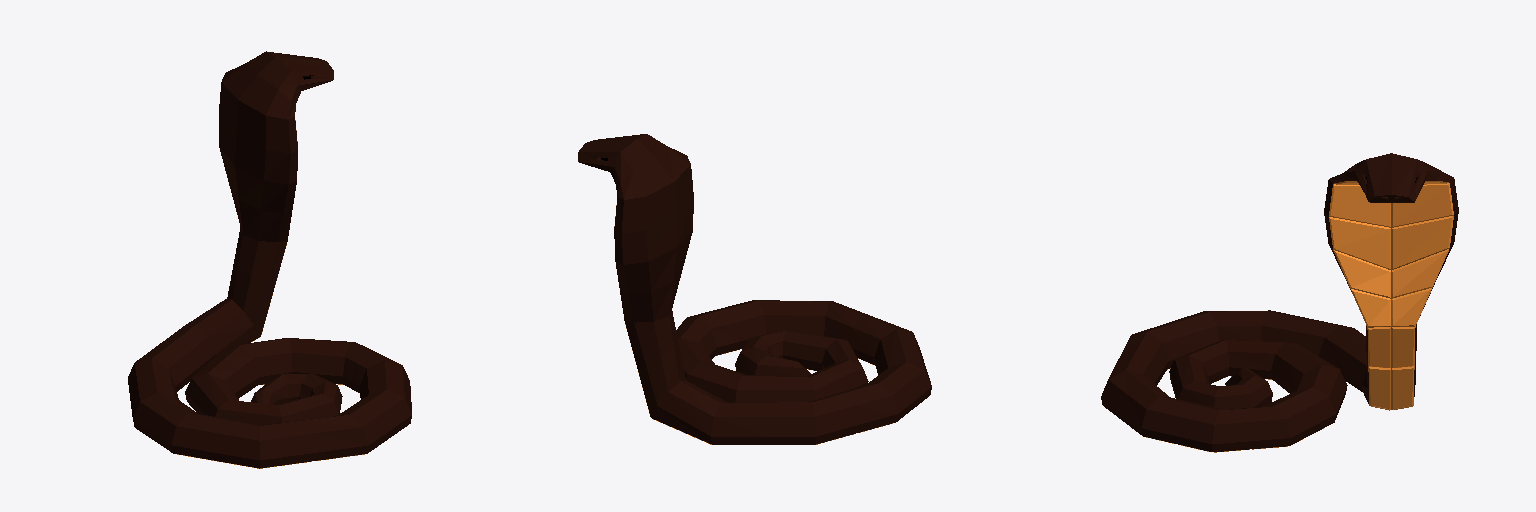
File: Snake_01.obj
3 renders of one model, left to right at view 1: azimuth 30°, elevation 25°; view 2: azimuth 150°, elevation 25°; view 3: azimuth 270°, elevation 25°, orthographic.
Parts seen in each view (by area): view 1: Snake_01_Circle.010; view 2: Snake_01_Circle.010; view 3: Snake_01_Circle.010.
Part boxes in pixels (left/top/right/bottom): Snake_01_Circle.010: left=128, top=51, right=411, bottom=468; Snake_01_Circle.010: left=578, top=134, right=931, bottom=444; Snake_01_Circle.010: left=1101, top=153, right=1458, bottom=452.
Bounding box in the file's own units: 9.46 × 9.96 × 11.59.